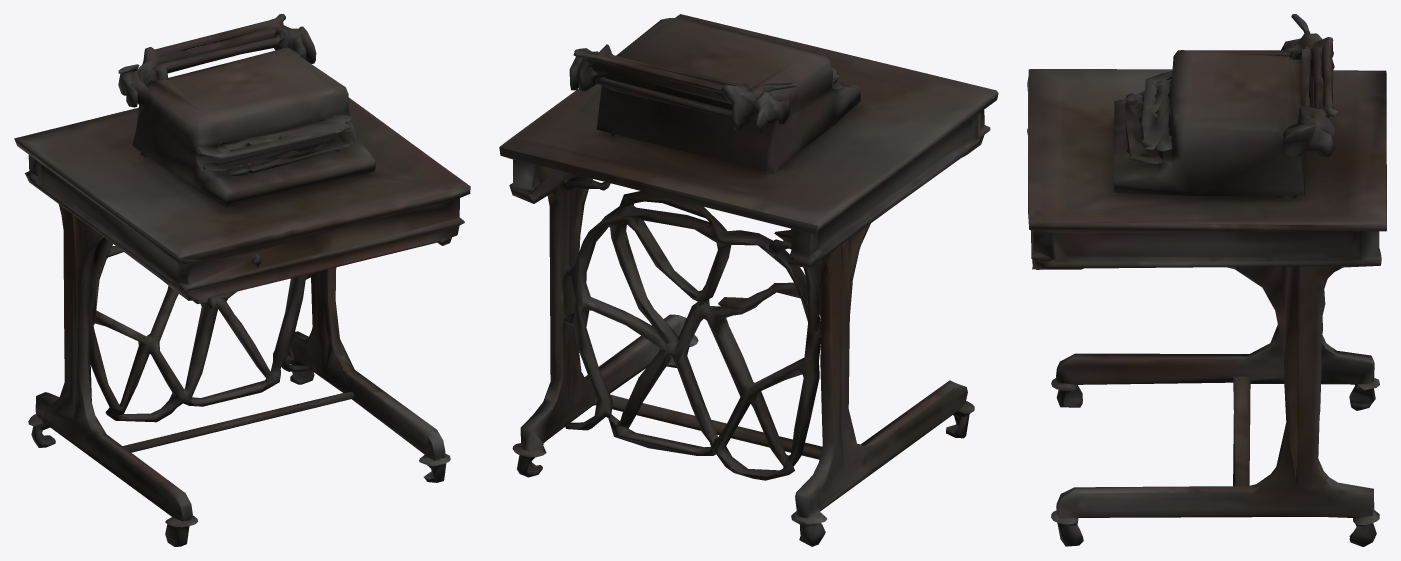
File: ornate-iron-desk-v001.glb
The picture shows the model from 3 angles, left to right: view 1: azimuth 30°, elevation 25°; view 2: azimuth 150°, elevation 25°; view 3: azimuth 270°, elevation 25°; orthographic projection. The views are drawn at different scales.
Visible parts, largest first — view 1: ornate-iron-desk; view 2: ornate-iron-desk; view 3: ornate-iron-desk.
Part boxes in pixels (x1,y1,x2,y2): ornate-iron-desk: (14,14,470,546); ornate-iron-desk: (499,14,998,546); ornate-iron-desk: (1027,14,1386,546).
Size of the model in its own units: 0.6291 by 0.7999 by 0.619.
Materials: 1 (1 with a texture image).
